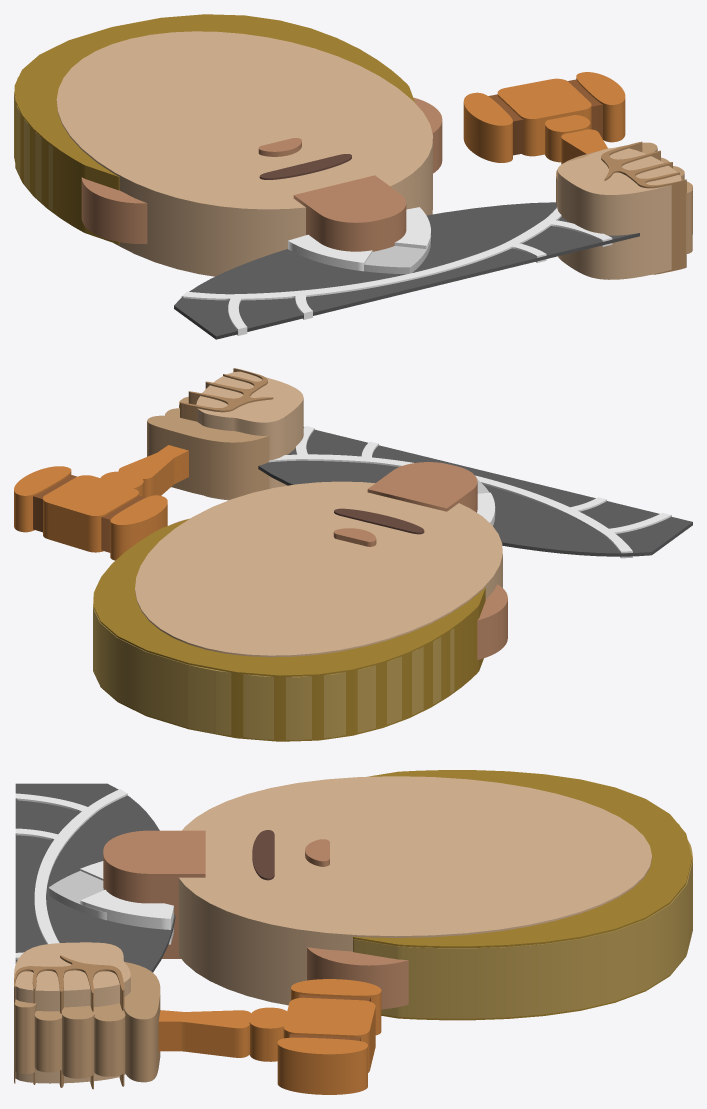
File: emoji_u1f468_1f3fc_200d_2696.glb
3 renders of one model, top to bottom at view 1: azimuth 30°, elevation 25°; view 2: azimuth 150°, elevation 25°; view 3: azimuth 270°, elevation 25°, orthographic. The views are drawn at different scales.
Parts seen in each view (by area): view 1: emoji_u1f468_1f3fc_200d_2696; view 2: emoji_u1f468_1f3fc_200d_2696; view 3: emoji_u1f468_1f3fc_200d_2696.
Boxes of the visible parts, box(x1,y1,x2,y2) form: emoji_u1f468_1f3fc_200d_2696: box(14, 14, 692, 339); emoji_u1f468_1f3fc_200d_2696: box(14, 368, 692, 741); emoji_u1f468_1f3fc_200d_2696: box(14, 770, 692, 1094).
Size of the model in its own units: 0.0335 by 0.0052 by 0.0333.
